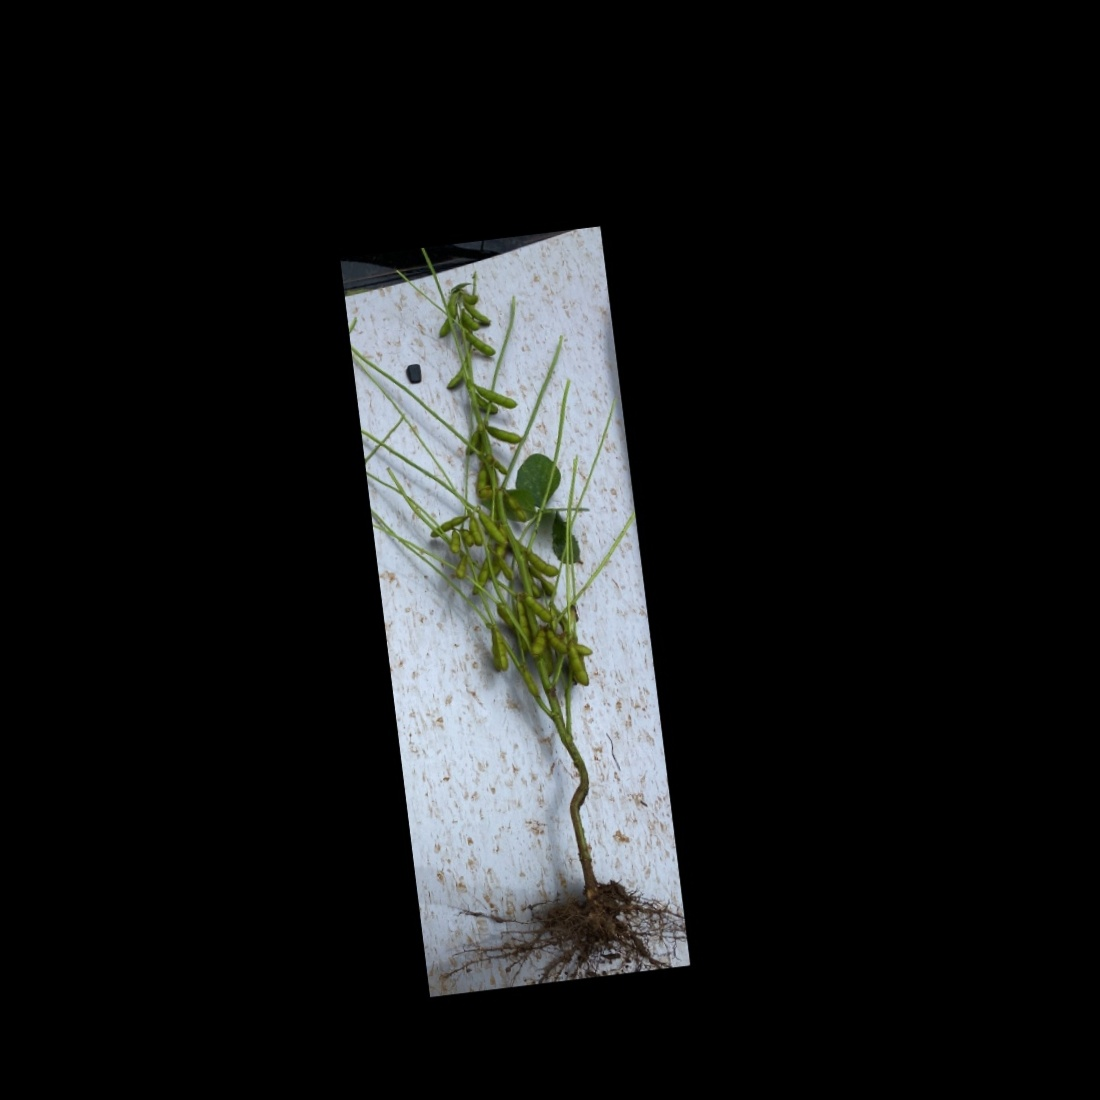pod: (566, 640, 590, 690), (477, 508, 507, 548), (428, 512, 472, 538), (522, 592, 554, 625), (486, 418, 522, 446), (467, 559, 494, 597), (442, 358, 471, 390), (466, 329, 498, 359), (494, 626, 511, 673), (545, 627, 569, 656), (486, 627, 500, 674), (528, 630, 548, 656), (523, 667, 539, 698), (467, 516, 483, 548), (446, 529, 463, 555), (461, 312, 482, 333)
soy: (385, 258, 676, 956)
